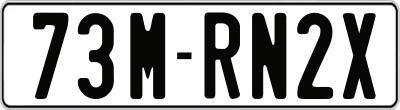2: (296, 12, 336, 104)
3: (75, 13, 112, 104)
7: (31, 13, 71, 105)
M: (127, 10, 165, 100)
N: (249, 12, 288, 99)
R: (203, 9, 244, 101)
X: (340, 12, 376, 101)
